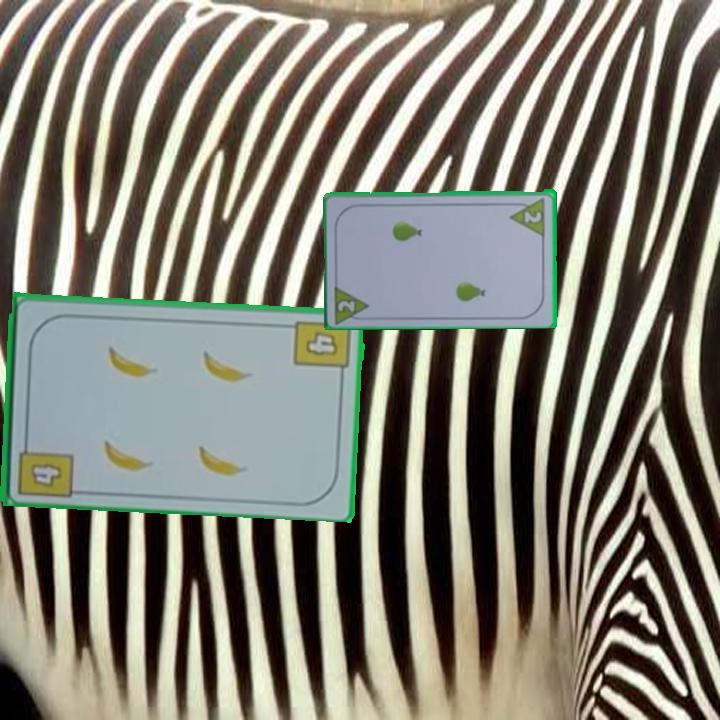2p: (331, 280, 373, 324), (507, 193, 548, 237)
4b: (291, 316, 355, 381), (14, 433, 76, 500)
